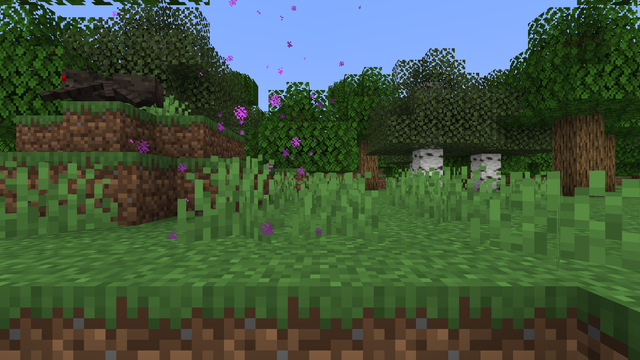araignees: (41, 57, 161, 112)
